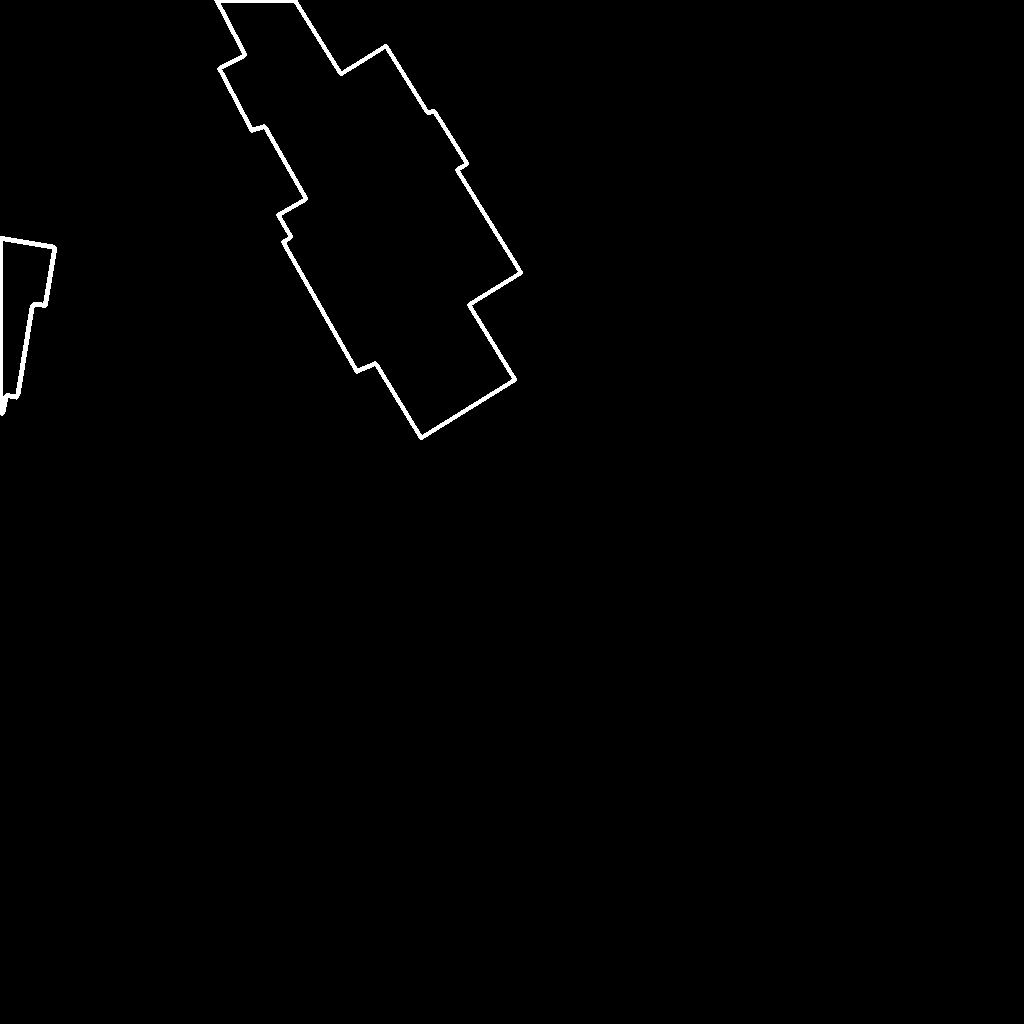building: (216, 0, 522, 439), (0, 238, 56, 415)
